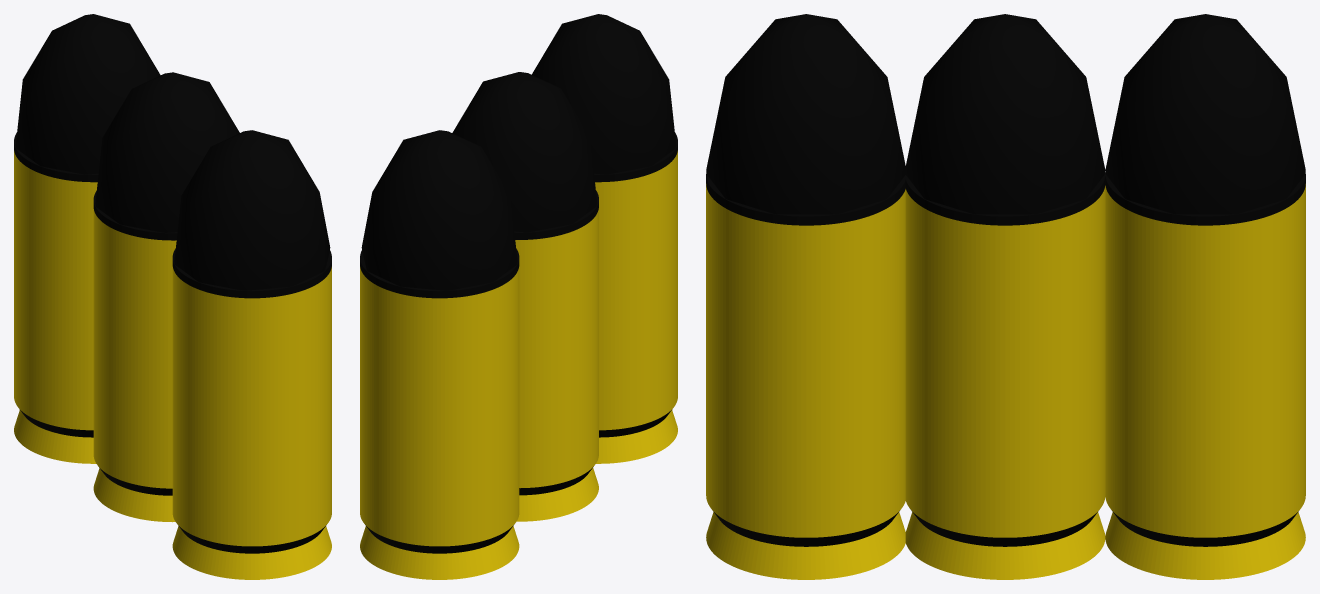
Rendered from AmmoPref.fbx.
The picture shows the model from 3 angles, left to right: view 1: azimuth 30°, elevation 25°; view 2: azimuth 150°, elevation 25°; view 3: azimuth 270°, elevation 25°; orthographic projection. The views are drawn at different scales.
Parts seen in each view (by area): view 1: Cylinder.004, Cylinder.001, Cylinder, Icosphere.004, Icosphere.001, Icosphere.002; view 2: Cylinder.001, Cylinder, Cylinder.004, Icosphere.001, Icosphere.002, Icosphere.004; view 3: Cylinder.001, Cylinder, Cylinder.004, Icosphere.001, Icosphere.004, Icosphere.002.
Boxes of the visible parts, <box> form: Cylinder.004: <box>172,249,331,579</box>; Cylinder.001: <box>14,132,98,463</box>; Cylinder: <box>93,191,177,522</box>; Icosphere.004: <box>174,130,330,290</box>; Icosphere.001: <box>15,14,160,174</box>; Icosphere.002: <box>95,72,239,232</box>; Cylinder.001: <box>360,249,519,579</box>; Cylinder: <box>514,190,598,521</box>; Cylinder.004: <box>594,132,677,463</box>; Icosphere.001: <box>361,130,517,290</box>; Icosphere.002: <box>452,72,597,232</box>; Icosphere.004: <box>531,14,676,174</box>; Cylinder.001: <box>1105,172,1305,579</box>; Cylinder: <box>905,171,1105,579</box>; Cylinder.004: <box>706,172,905,579</box>; Icosphere.001: <box>1105,14,1305,214</box>; Icosphere.004: <box>706,14,905,214</box>; Icosphere.002: <box>905,14,1105,214</box>.
Bounding box in the file's own units: 5 × 14.41 × 14.96.
